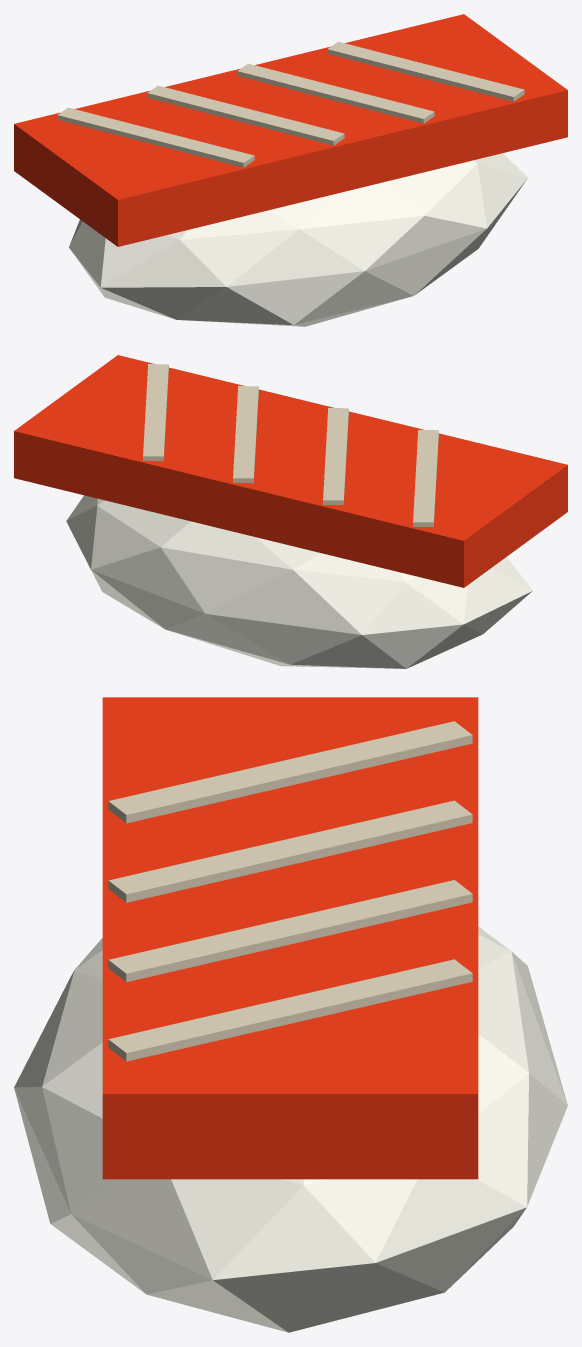
Rendered from sushi_nigiri.obj.
3 views of the same model, one above another, from view 1: azimuth 30°, elevation 25°; view 2: azimuth 150°, elevation 25°; view 3: azimuth 270°, elevation 25° (orthographic). The views are drawn at different scales.
Visible parts, largest first — view 1: sushi_nigiri; view 2: sushi_nigiri; view 3: sushi_nigiri.
Part boxes in pixels (x1=…): sushi_nigiri: x1=14, y1=14, x2=567, y2=326; sushi_nigiri: x1=14, y1=355, x2=567, y2=668; sushi_nigiri: x1=14, y1=697, x2=567, y2=1332.
Size of the model in its own units: 0.1 by 0.0422 by 0.059.
